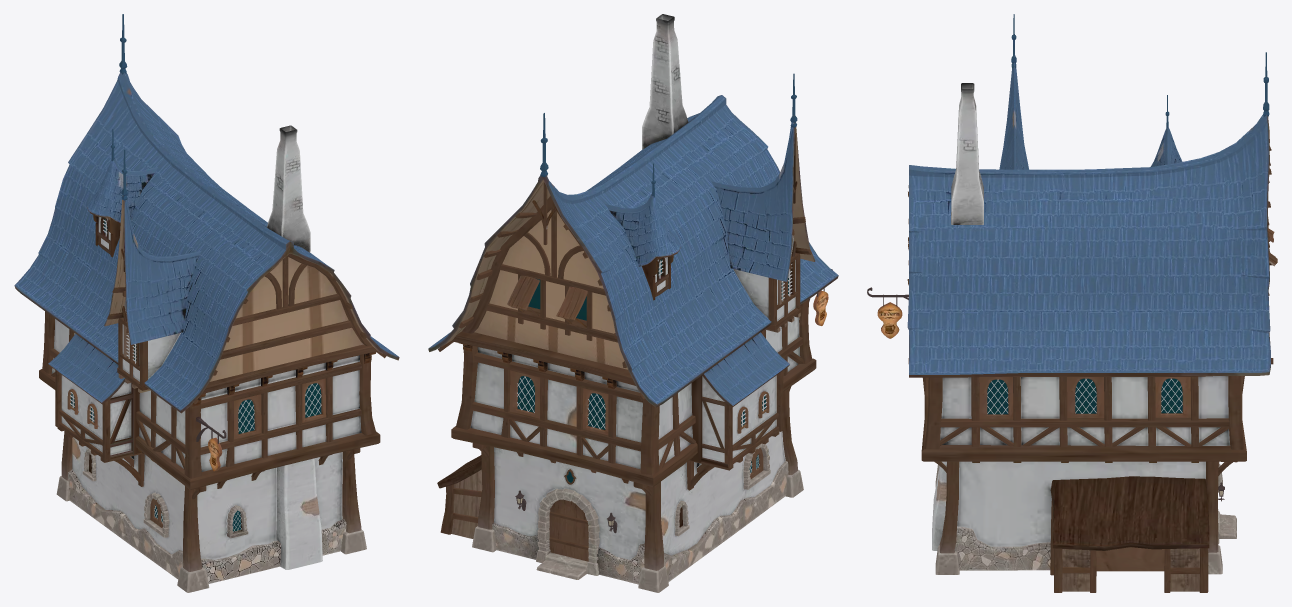
Rendered from 静物_其它_tavern_medieval_house_opt.glb.
3 views of the same model, side by side, from view 1: azimuth 30°, elevation 25°; view 2: azimuth 150°, elevation 25°; view 3: azimuth 270°, elevation 25° (orthographic). The views are drawn at different scales.
Visible parts, largest first — view 1: Object_2; view 2: Object_2; view 3: Object_2.
Boxes of the visible parts, x1,y1,x2,y2 form: Object_2: [14, 14, 399, 592]; Object_2: [428, 14, 838, 592]; Object_2: [867, 14, 1277, 592].
Size of the model in its own units: 0.2976 by 0.5 by 0.3904.
1 material, 1 textured.
